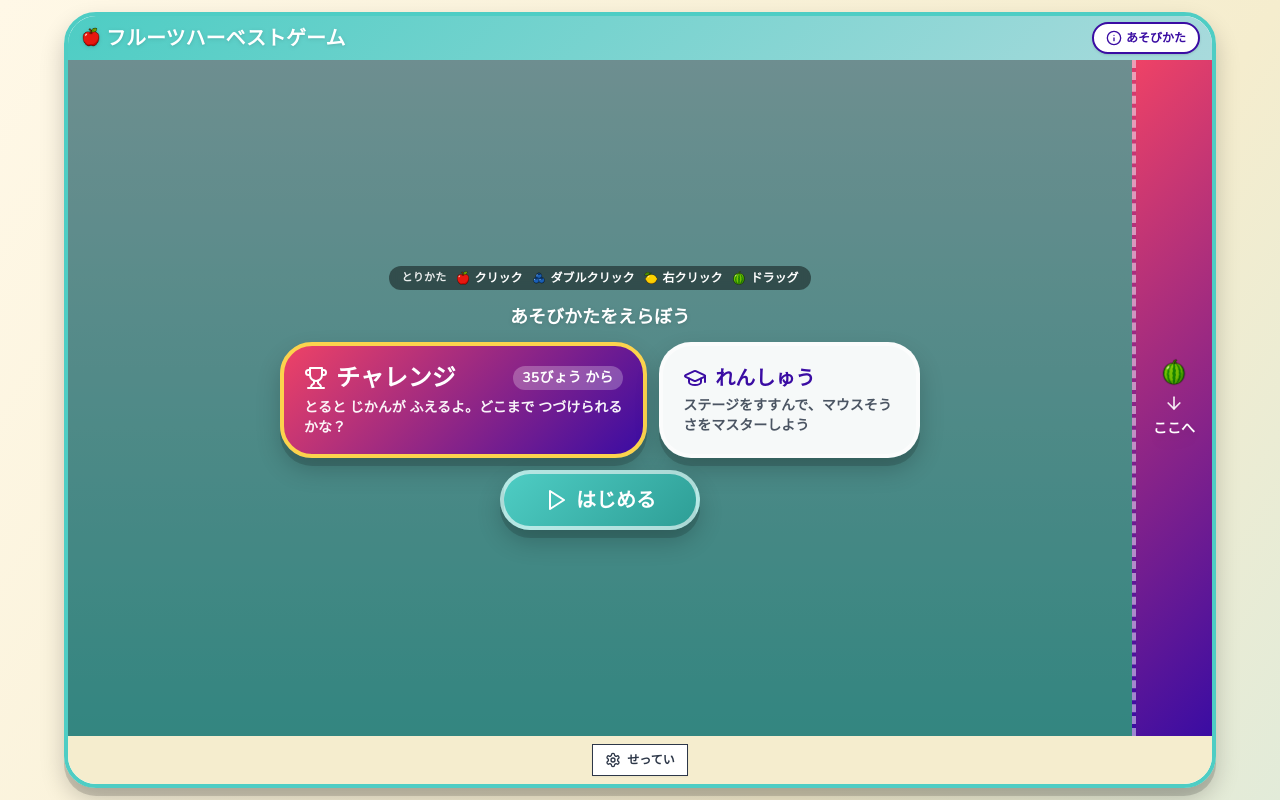
Test: Internationalization (i18n) › UI Text Translations › should translate time format
Click the button with test id "mode-start" at (600, 500), box [500,470,700,530]
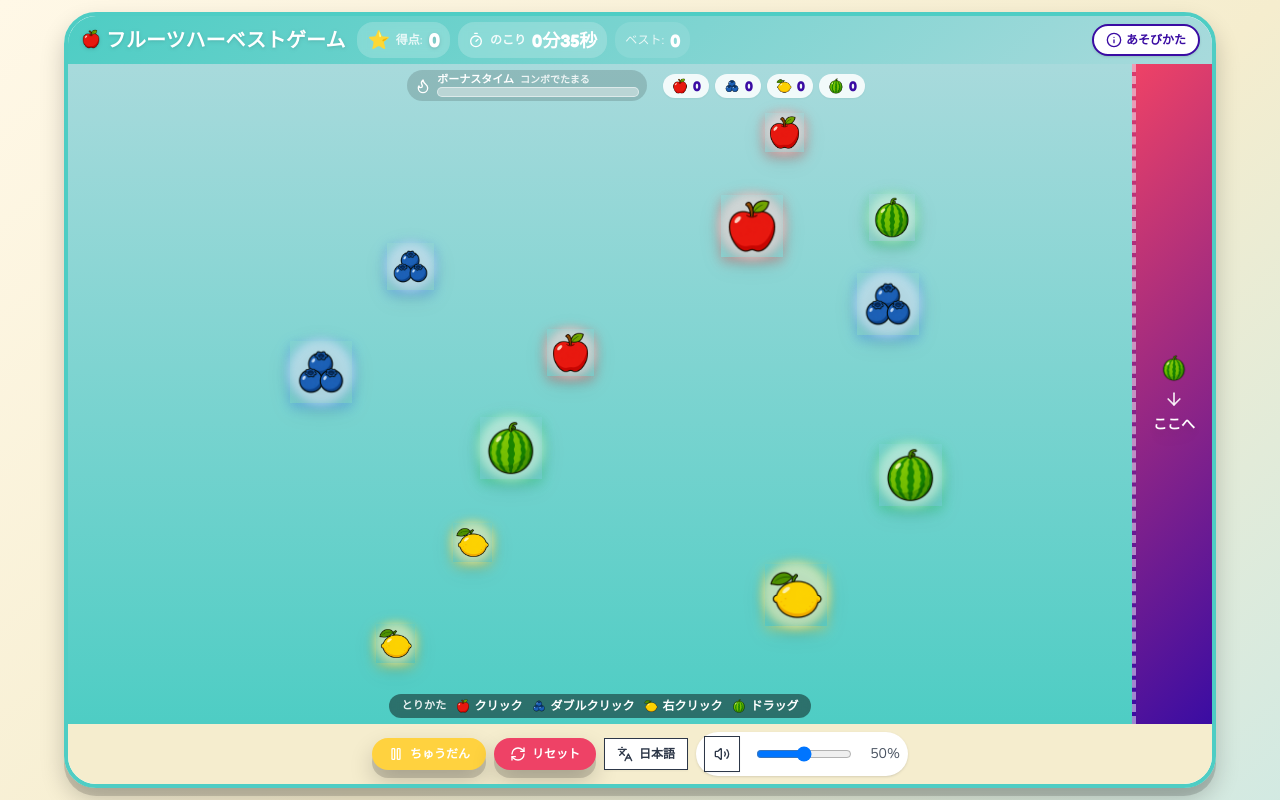
Expected: the text "0分35秒" is shown, [532,26,597,54]
遊んでいる間は言語の切り替えが操作列にある
Click the button with aria-label "language" at (646, 754), box [604,738,688,770]
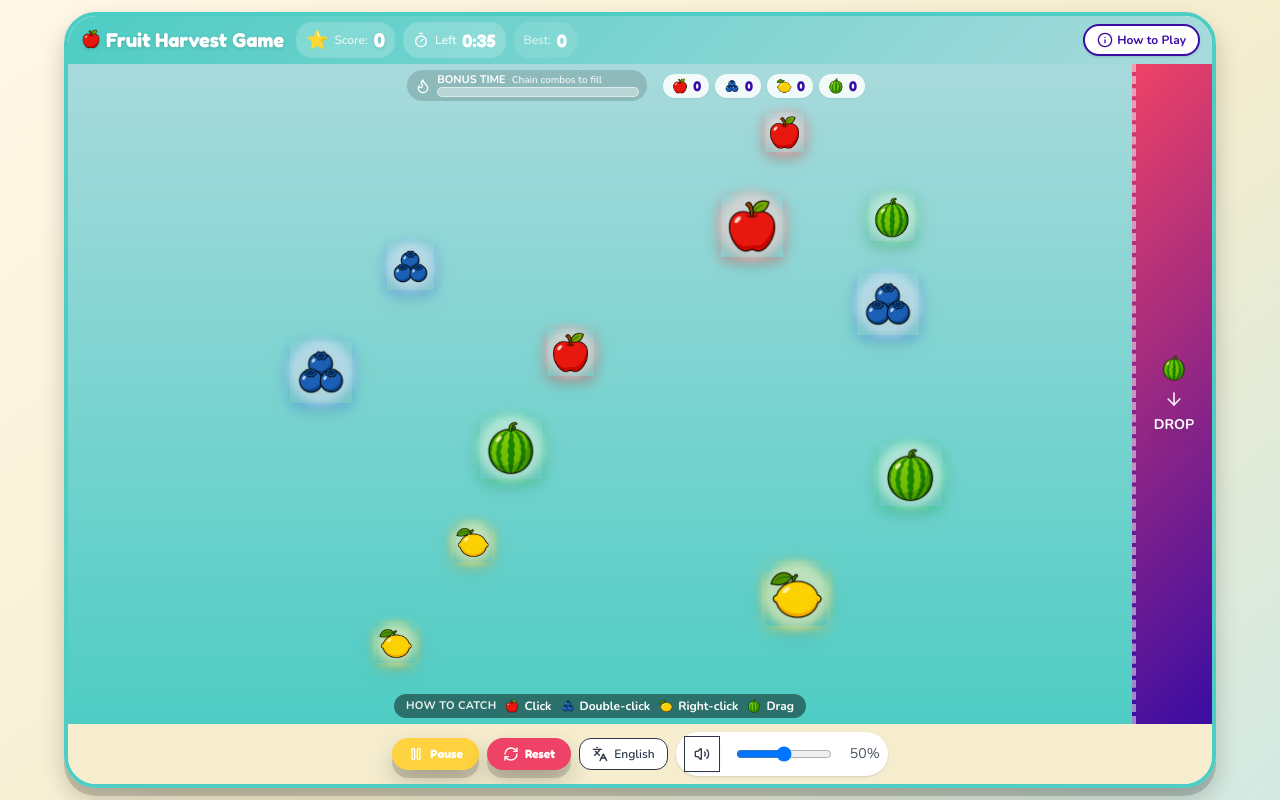
Expected: the text "0:35" is shown, [462,26,496,54]
